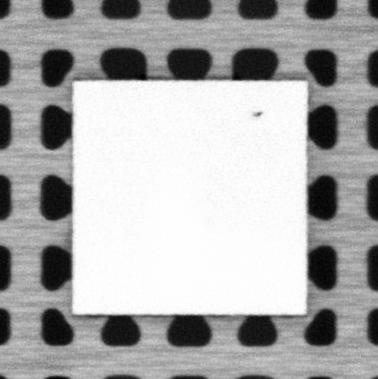DIE_INK: (251, 110, 264, 118)
